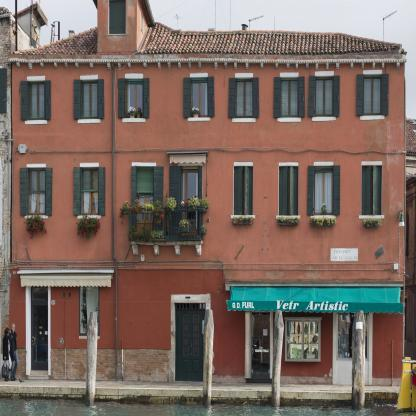Balcony: (128, 206, 206, 241)
Building Outline: (9, 0, 407, 388)
Cornice: (131, 161, 157, 167), (361, 160, 383, 166), (27, 75, 47, 81), (80, 74, 100, 80), (124, 73, 144, 79), (189, 72, 209, 78), (235, 72, 255, 78), (232, 161, 254, 166), (313, 161, 334, 166), (278, 161, 299, 166), (27, 163, 47, 168), (280, 72, 300, 77), (315, 71, 335, 76), (363, 70, 383, 75), (80, 162, 100, 167)
Deco: (153, 245, 160, 256), (132, 245, 138, 256), (175, 245, 181, 256), (196, 245, 202, 256), (51, 300, 55, 305)
Door: (175, 310, 206, 381), (28, 287, 49, 376), (136, 167, 154, 241), (180, 167, 198, 241), (252, 312, 270, 379)
Facade: (9, 0, 408, 387)
Floor: (12, 150, 404, 257)
Floor Slab: (12, 145, 404, 150), (12, 252, 404, 257)
Ground Floor: (12, 256, 404, 387)
Molding: (9, 58, 407, 70)
Roof: (9, 0, 407, 58)
Shop: (338, 313, 367, 358), (287, 319, 318, 359), (80, 286, 99, 334), (276, 300, 348, 311), (232, 302, 255, 310)
Sill: (23, 214, 50, 220), (358, 214, 385, 220), (229, 214, 256, 220), (76, 214, 103, 220), (310, 214, 336, 220), (275, 214, 301, 220), (360, 115, 385, 121), (24, 119, 48, 125), (312, 116, 336, 122), (232, 117, 255, 123), (77, 119, 101, 124), (187, 117, 211, 122), (277, 117, 301, 122), (122, 118, 145, 123)
Top Floor: (12, 59, 404, 150)
Window: (362, 166, 382, 216), (234, 166, 253, 215), (279, 166, 298, 215), (314, 167, 333, 216), (27, 168, 46, 216), (80, 167, 99, 215), (363, 75, 382, 116), (280, 77, 299, 117), (235, 77, 253, 118), (315, 76, 333, 117), (125, 78, 143, 118), (80, 80, 98, 119), (190, 78, 208, 117), (28, 81, 45, 120), (110, 0, 126, 34), (175, 303, 206, 310)
